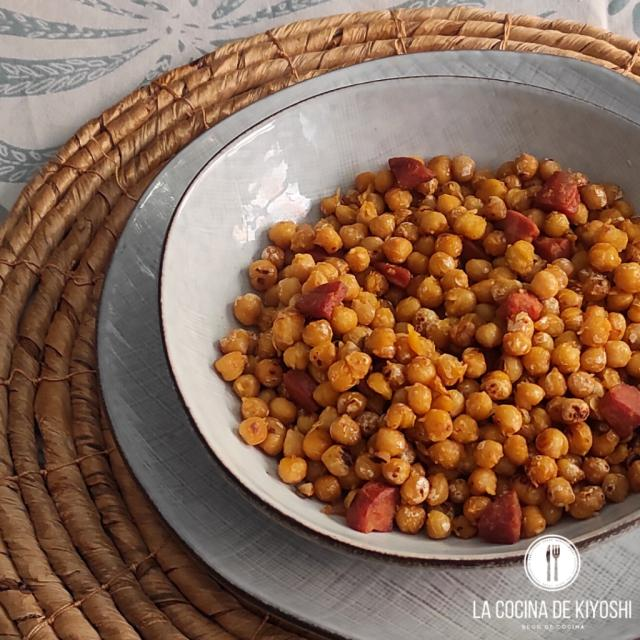garbanzos: (212, 138, 636, 538)
